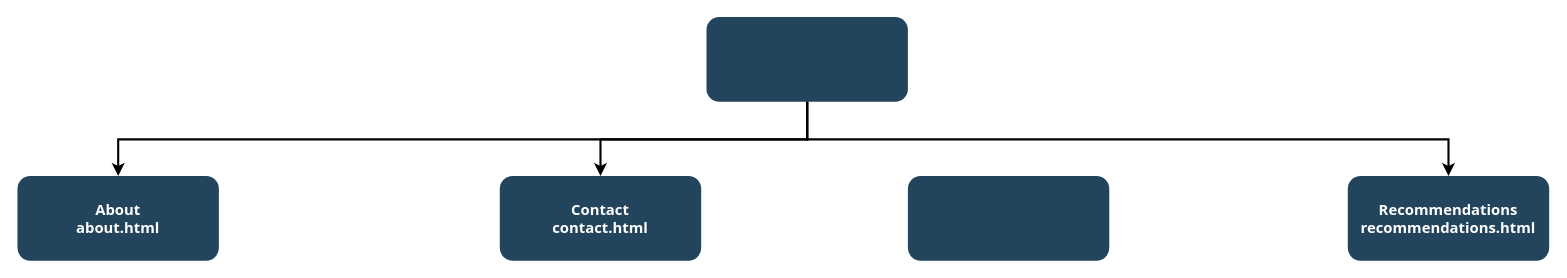
Some shapes in this 1567 by 278 pixel diagram are drawn without their labels. The shapes that lost their labels are listed below. From the top down, each one's box as (x1, y1, x2, y2) in pixels, then its label:
(706, 16, 907, 101): Home index.html
(907, 175, 1109, 260): Written Works works.html
